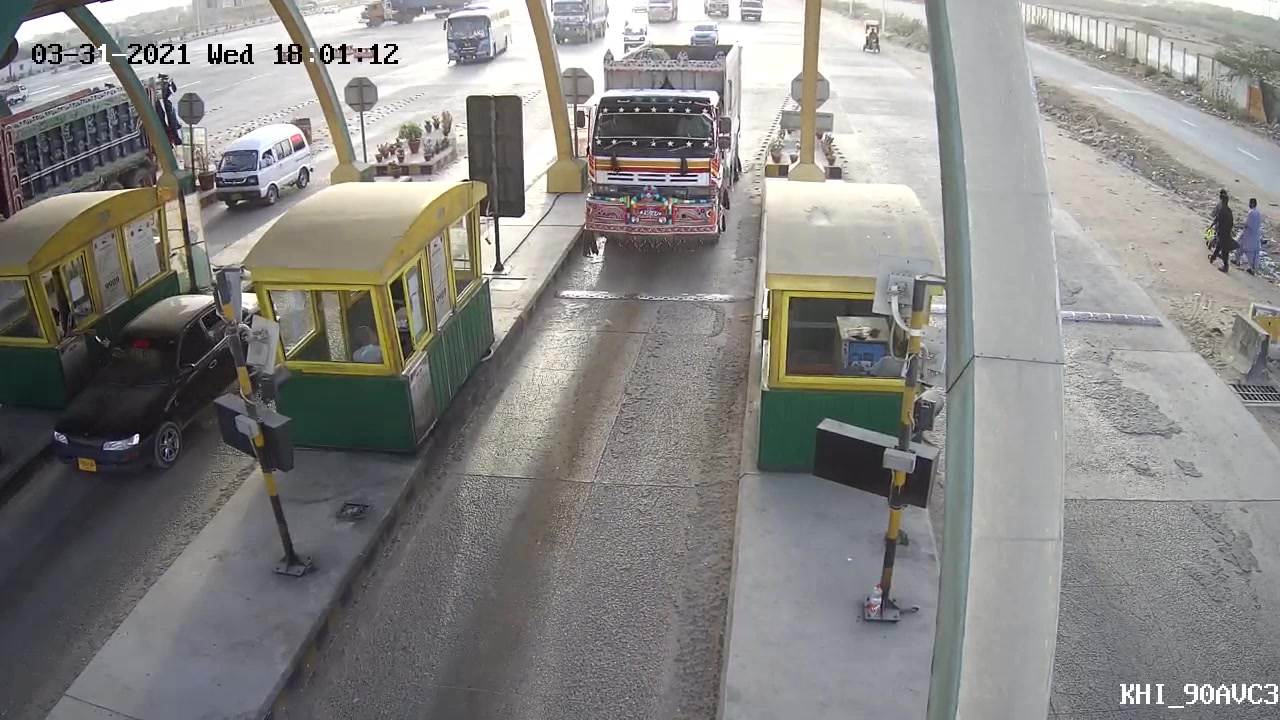F5: (566, 35, 751, 258)
